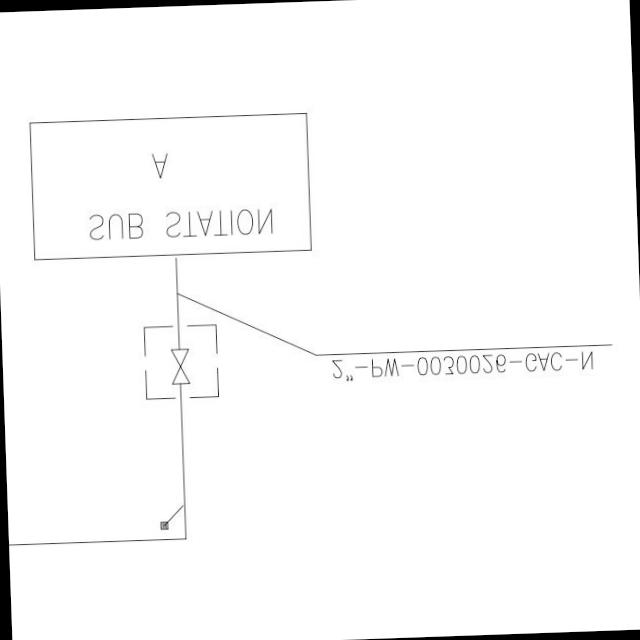GV: (165, 343, 192, 388)
